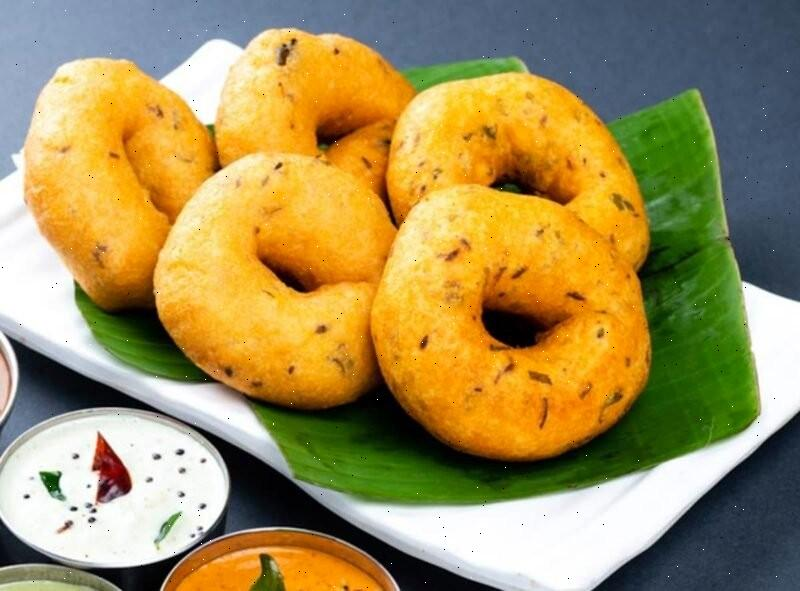medu vada: (9, 20, 689, 461)
